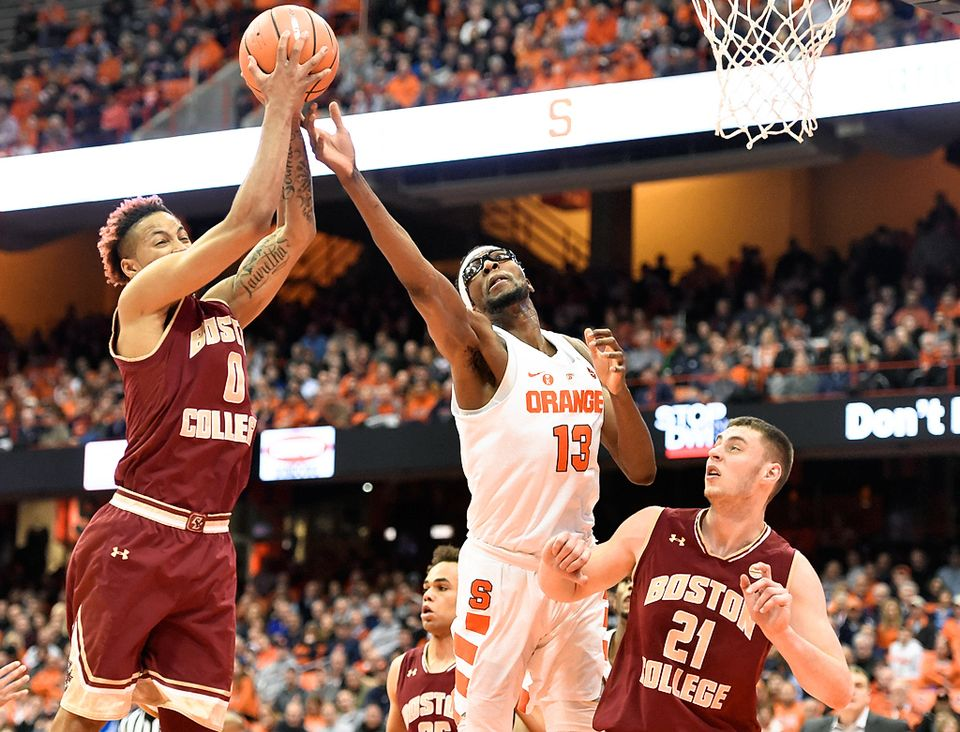block: (283, 78, 659, 732)
shoot: (47, 5, 344, 732)
